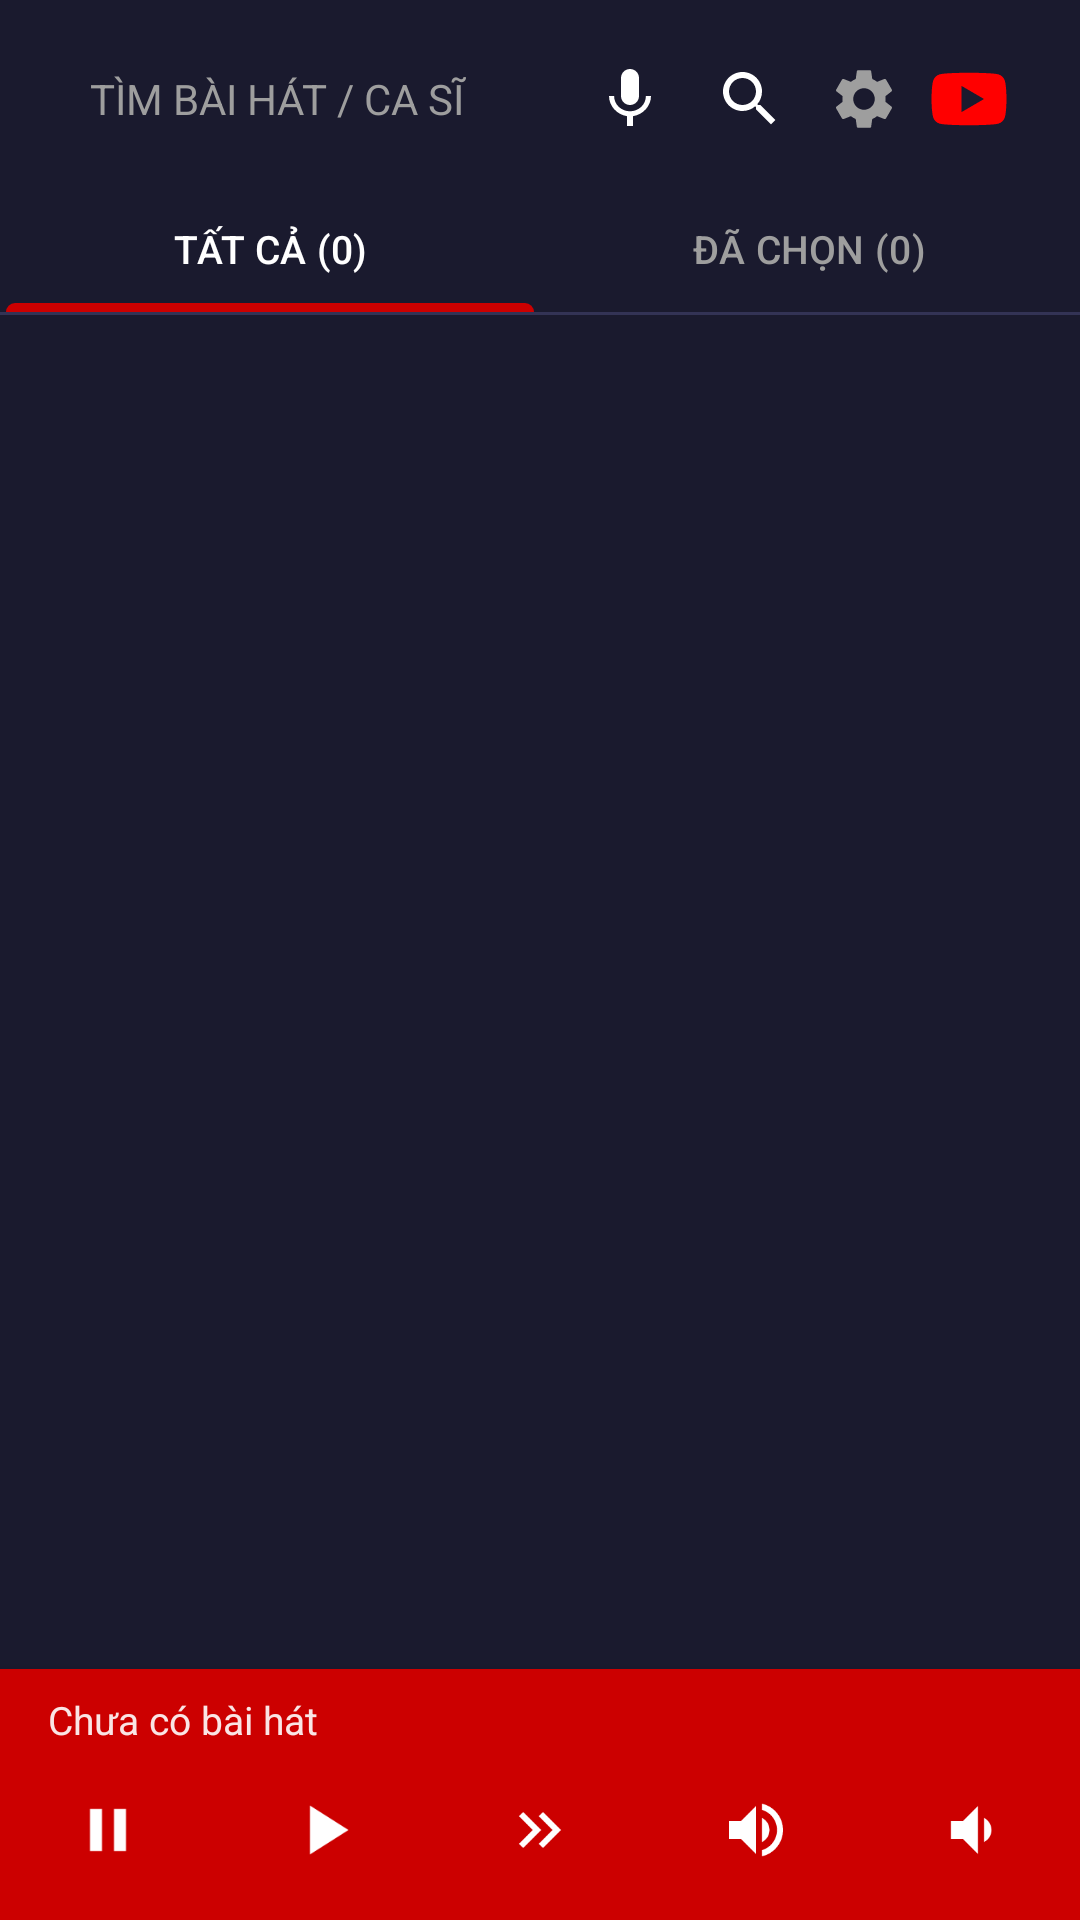

Screen size 1080×1920. Icon name, then its box in pixels as Rect(x1, y1, x2, y2):
Dừng: Rect(89, 1808, 127, 1852)
Giảm âm lượng: Rect(950, 1806, 992, 1854)
Hát tiếp: Rect(309, 1805, 349, 1855)
Qua bài: Rect(519, 1812, 561, 1848)
Search: Rect(723, 72, 775, 124)
Settings: Rect(836, 70, 892, 128)
Tăng âm lượng: Rect(729, 1803, 783, 1857)
Voice search: Rect(609, 69, 651, 126)
